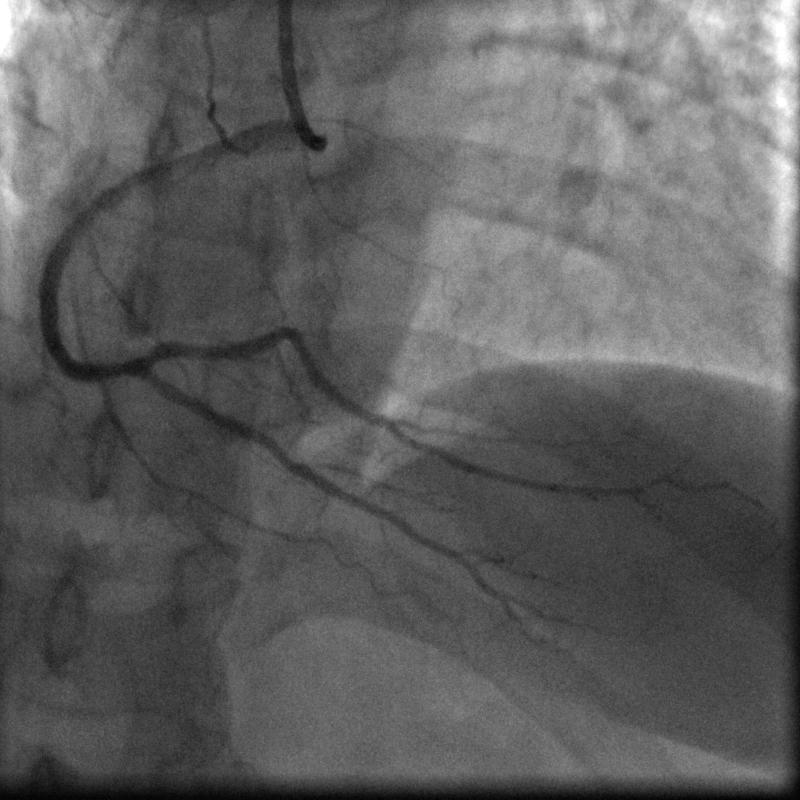Stenosis: (106, 356, 140, 382)
